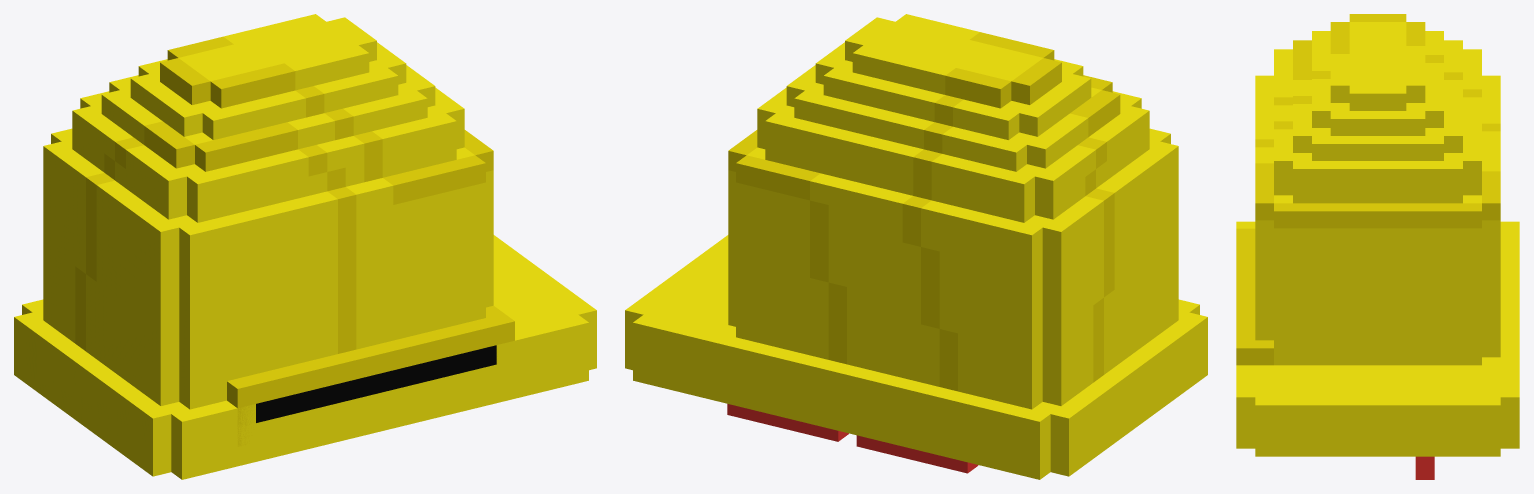
Rendered from constructionhat.glb.
3 views of the same model, side by side, from view 1: azimuth 30°, elevation 25°; view 2: azimuth 150°, elevation 25°; view 3: azimuth 270°, elevation 25° (orthographic). The views are drawn at different scales.
Parts seen in each view (by area): view 1: base, moustache, mouth; view 2: base, glasses; view 3: base, moustache, glasses.
Part boxes in pixels (x1,y1,x2,y2): base: (14, 14, 596, 479); moustache: (227, 305, 514, 446); mouth: (256, 345, 496, 422); base: (625, 14, 1207, 479); glasses: (727, 404, 978, 473); base: (1236, 14, 1519, 456); moustache: (1236, 228, 1292, 365); glasses: (1415, 456, 1434, 479).
Bounding box in the file's own units: 24 × 20 × 15.
11 materials, 11 textured.
